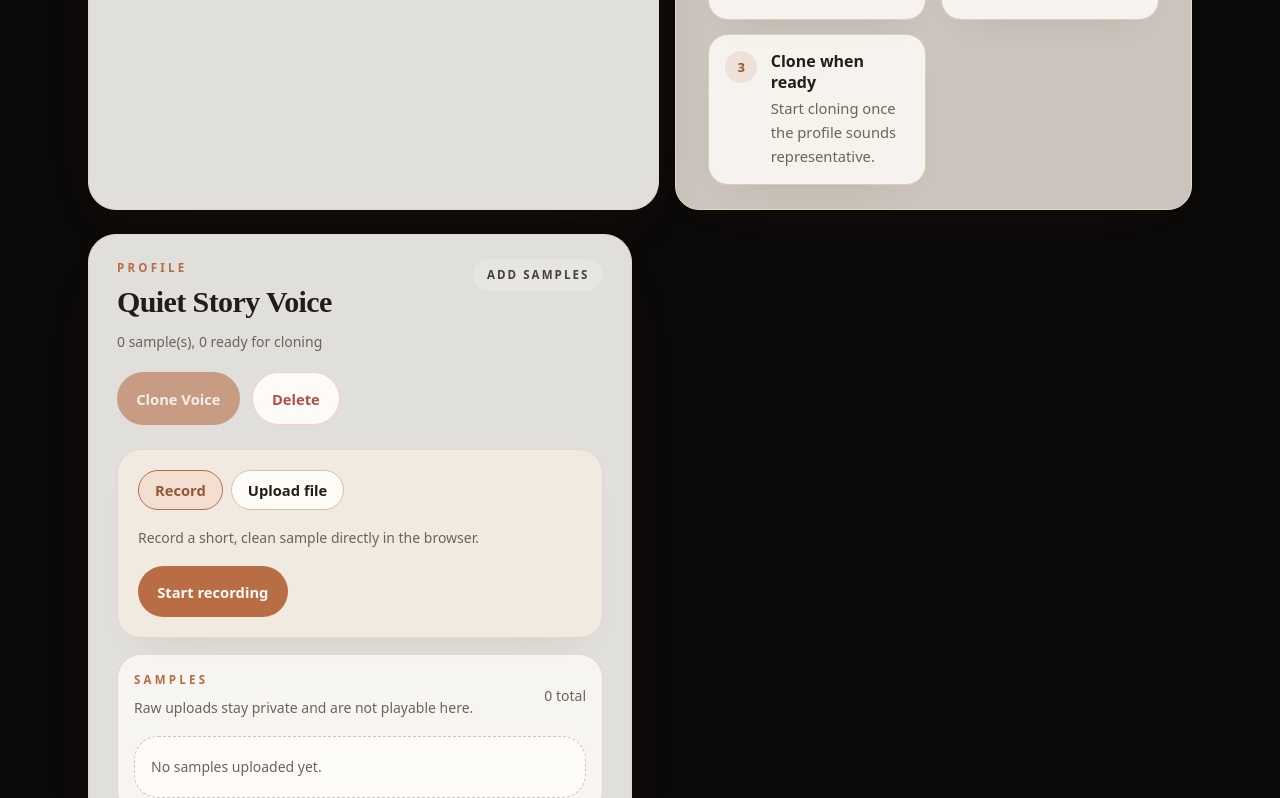
Test: VoiceProfilesView › deletes a profile after confirmation
The width and height of the screenshot is (1280, 798).
(page scrolled)
Step 1. Click the button "Delete" → (296, 399), box [252,372,340,425]
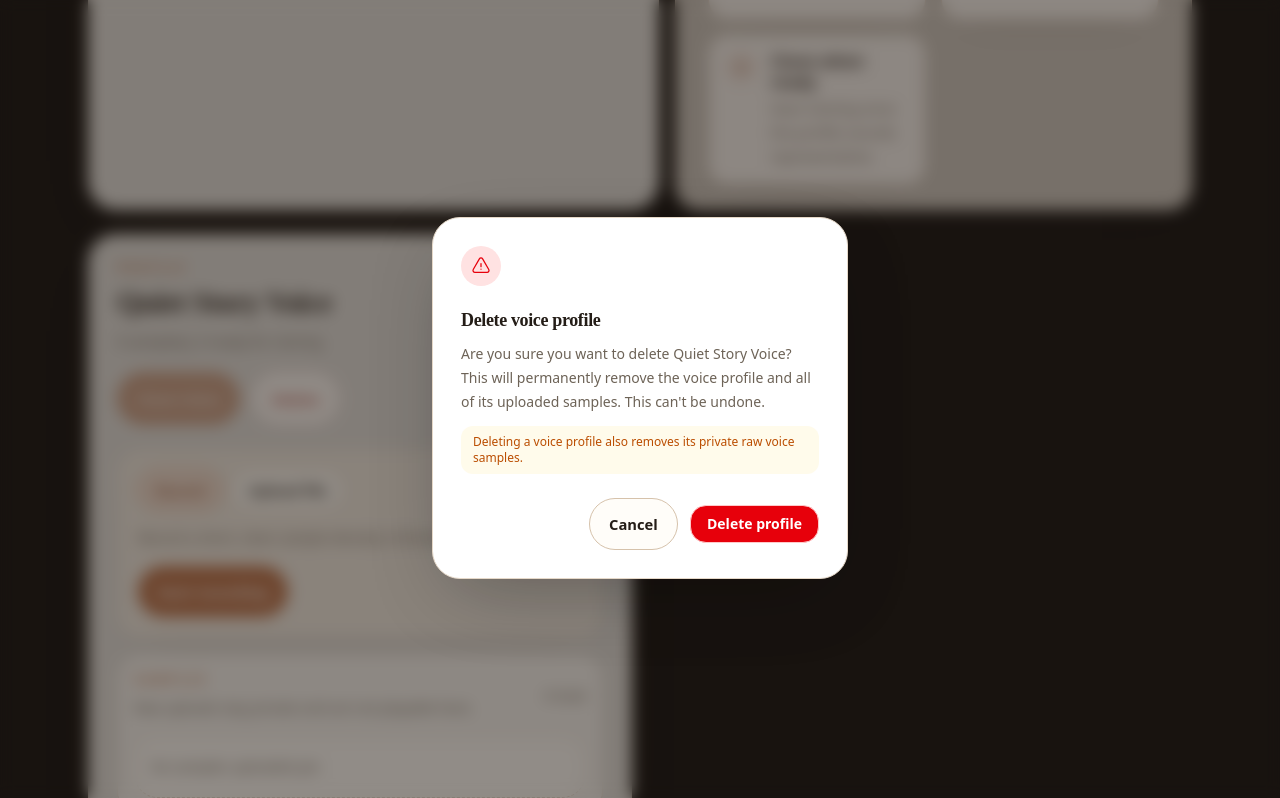
Check: the button with test id "confirm-modal-confirm" reads "Delete profile"
Step 2. Click the button with test id "confirm-modal-confirm" → (754, 524), box [690,505,819,543]
(page scrolled)
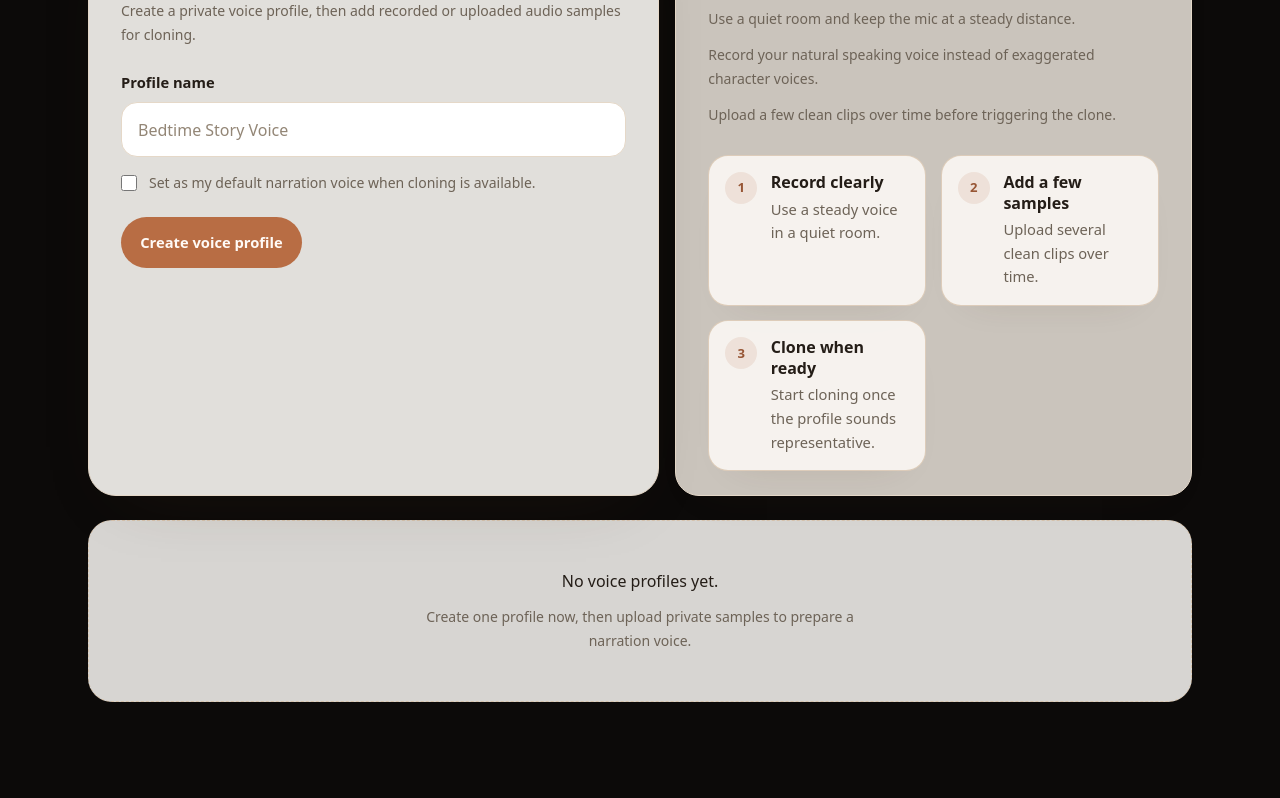
Check: the text "Quiet Story Voice" is gone
